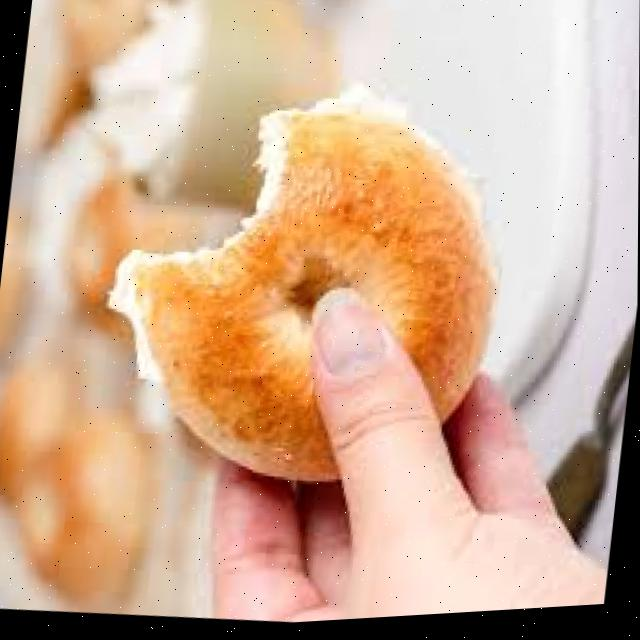Bagel: (110, 113, 491, 483)
